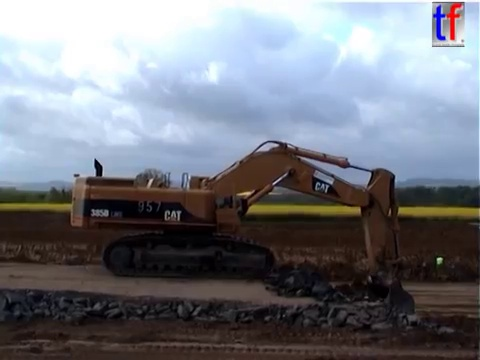excavator: (67, 137, 419, 330)
